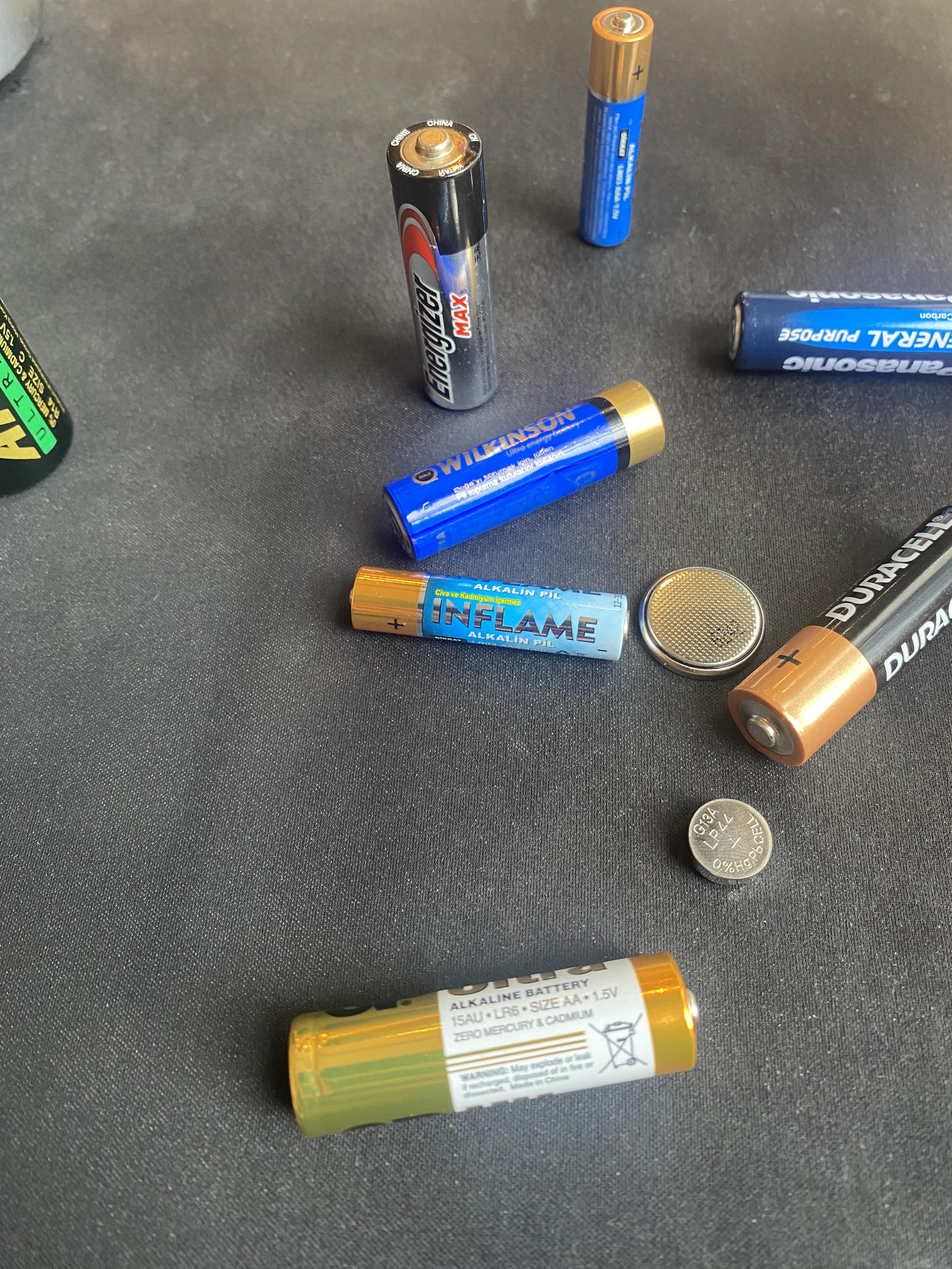AA: (286, 949, 700, 1138), (380, 377, 666, 561), (385, 116, 499, 410)
AAA: (577, 3, 668, 268)
